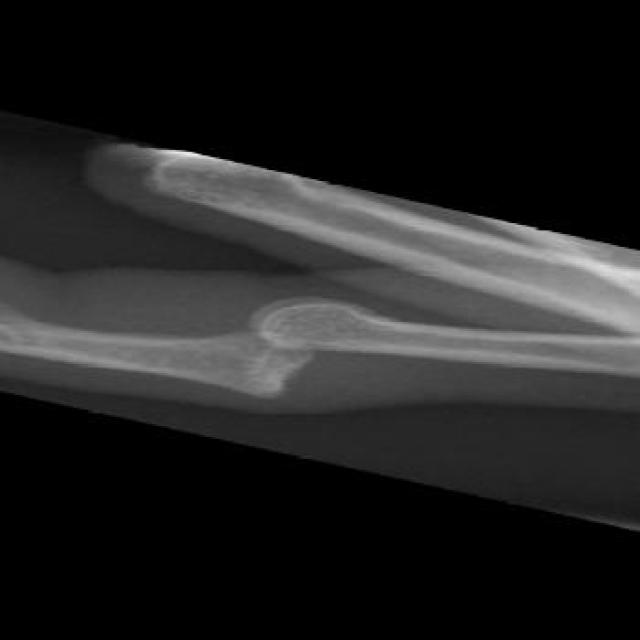Fracture: (234, 280, 349, 413)
